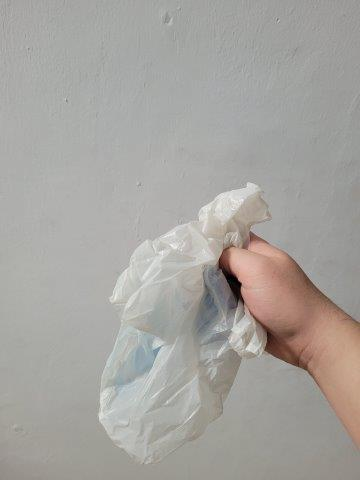plastik: (98, 185, 269, 461)
